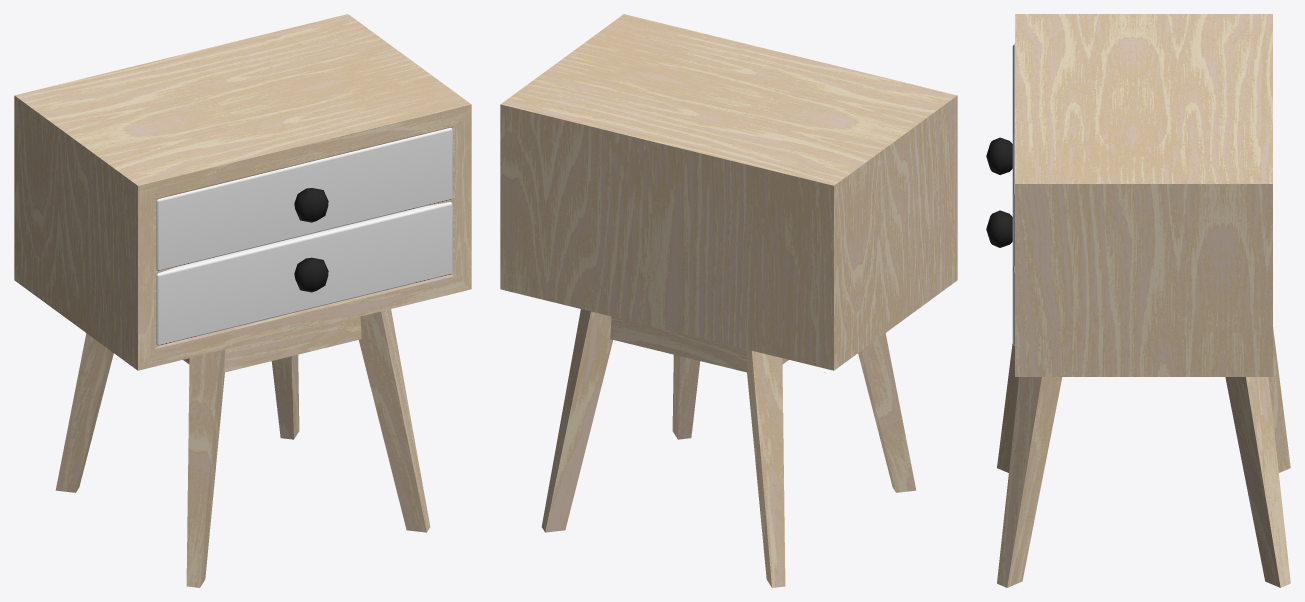
File: dresser_020.fbx
3 renders of one model, left to right at view 1: azimuth 30°, elevation 25°; view 2: azimuth 150°, elevation 25°; view 3: azimuth 270°, elevation 25°, orthographic. The views are drawn at different scales.
Visible parts, largest first — view 1: dresser_020; view 2: dresser_020; view 3: dresser_020.
Part boxes in pixels (<box>): dresser_020: <box>14,14,471,587</box>; dresser_020: <box>500,14,957,587</box>; dresser_020: <box>986,14,1290,587</box>.
Bounding box in the file's own units: 70.88 × 53.67 × 82.99.
